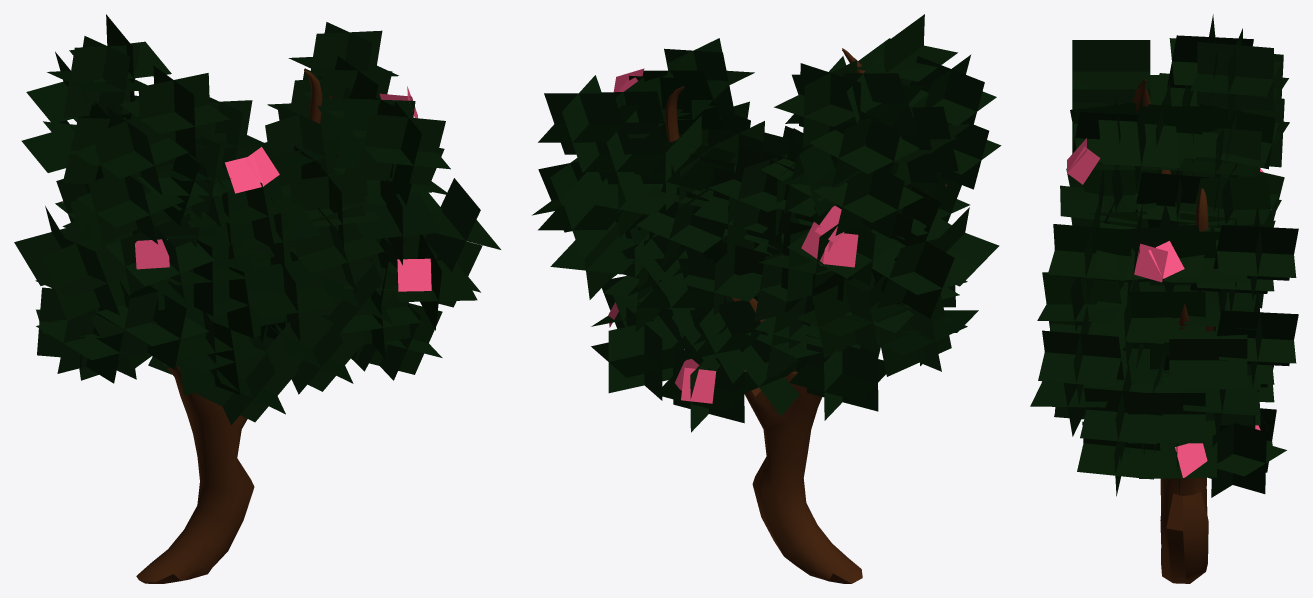
The model's file is Frangipanier_1V8.fbx.
3 views of the same model, side by side, from view 1: azimuth 30°, elevation 25°; view 2: azimuth 150°, elevation 25°; view 3: azimuth 270°, elevation 25° (orthographic). The views are drawn at different scales.
Visible parts, largest first — view 1: Trunk_low; view 2: Trunk_low; view 3: Trunk_low.
Part boxes in pixels (x1,y1,x2,y2): Trunk_low: (14,14,500,583); Trunk_low: (532,14,1001,583); Trunk_low: (1030,14,1298,583).
Size of the model in its own units: 749 by 904 by 424.
